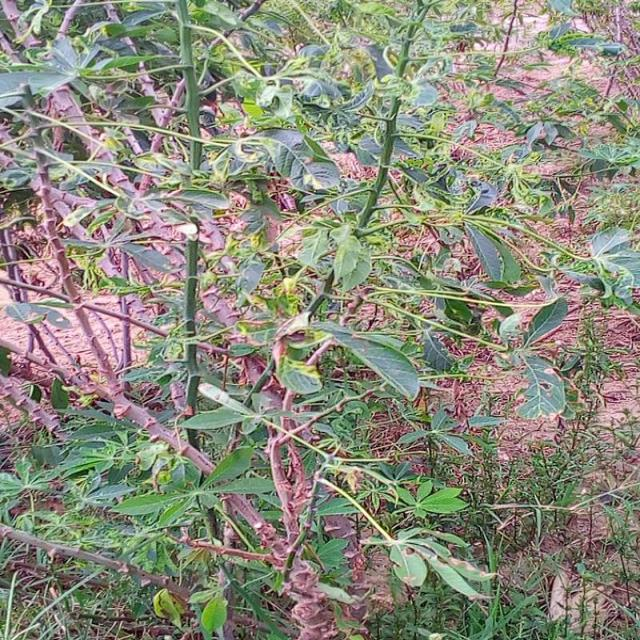cassava leaf: (0, 0, 638, 637), (306, 319, 420, 401)
